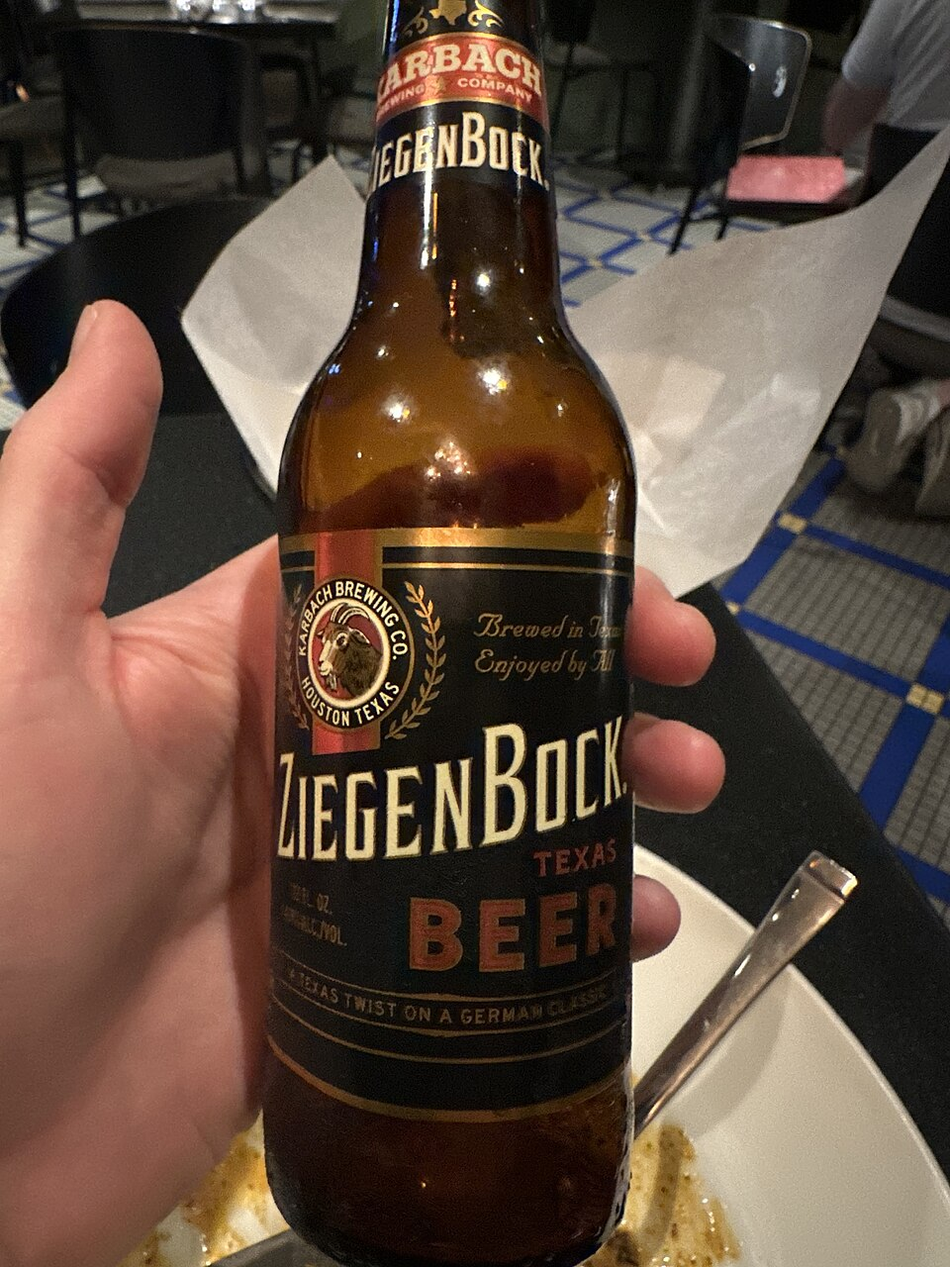beer-bottle: (249, 0, 654, 1266)
